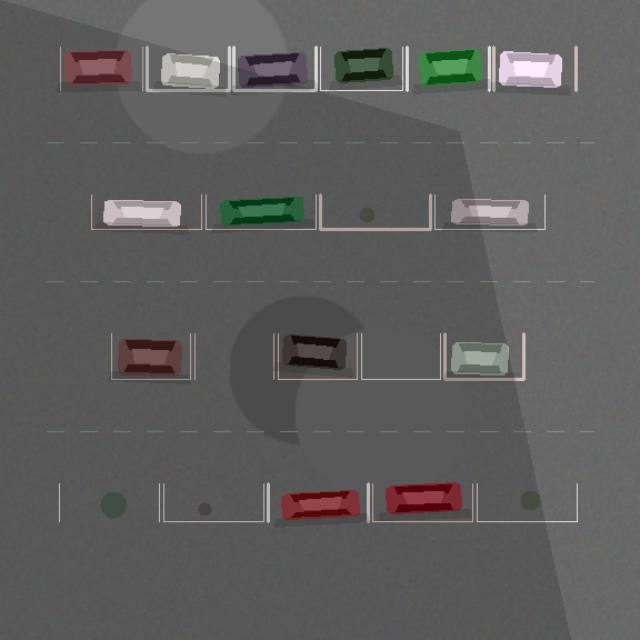space-empty: (320, 194, 430, 229), (59, 483, 159, 521), (163, 483, 263, 521), (477, 483, 577, 521), (194, 333, 273, 379), (361, 333, 440, 379)
space-occupied: (91, 194, 201, 229), (206, 194, 316, 229), (434, 194, 544, 229), (268, 483, 368, 521), (372, 483, 472, 521), (111, 333, 190, 379), (278, 333, 357, 379), (444, 333, 523, 379), (233, 47, 316, 90), (493, 47, 576, 90), (60, 47, 142, 90), (147, 47, 229, 90), (320, 47, 402, 90), (407, 47, 489, 90)
